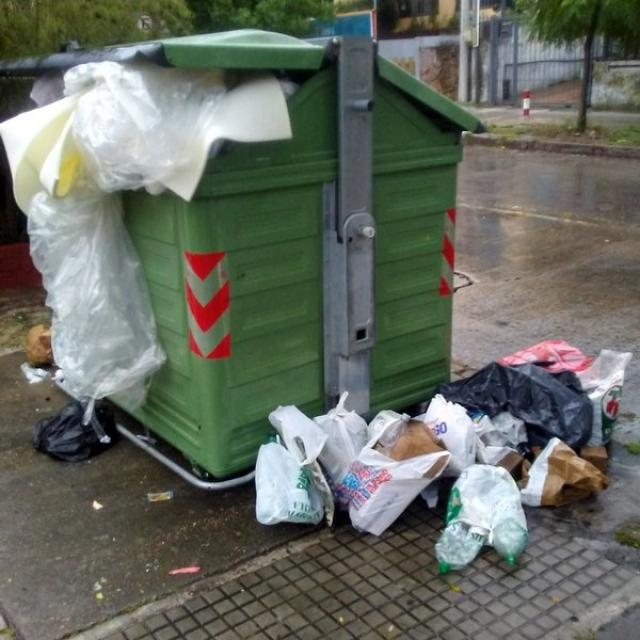garbage: (0, 54, 173, 424), (249, 398, 602, 567), (474, 330, 625, 504), (175, 78, 306, 141), (21, 406, 124, 486)
